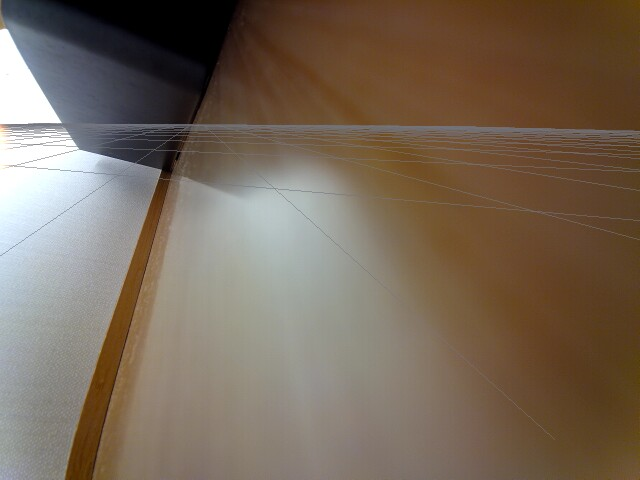firebig: (0, 121, 14, 174)
